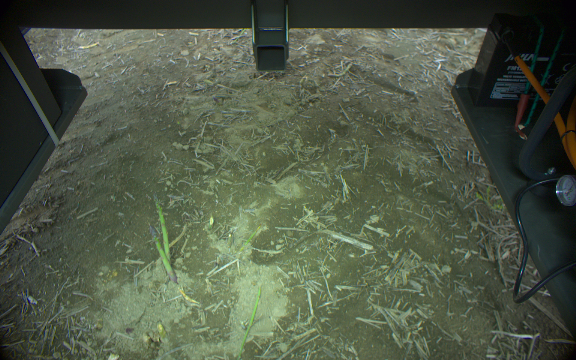aspa: (233, 284, 267, 360), (147, 223, 176, 284), (151, 194, 173, 261)
